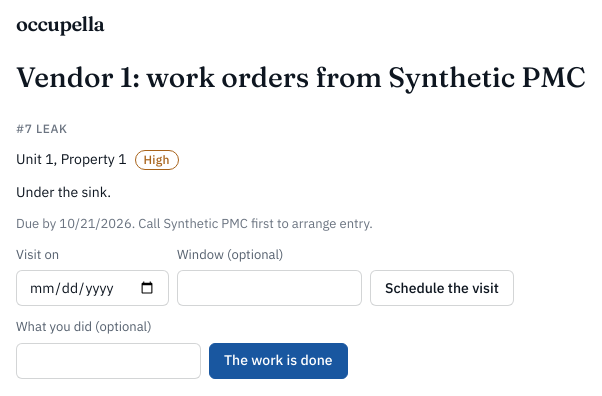
Scenario: VendorLinkPage › says the work is done, and then that nothing waits
Type " New washer " into the field labelled "What you did (optional)".
click(108, 361); type(" New washer ")  # box [16,343,201,379]
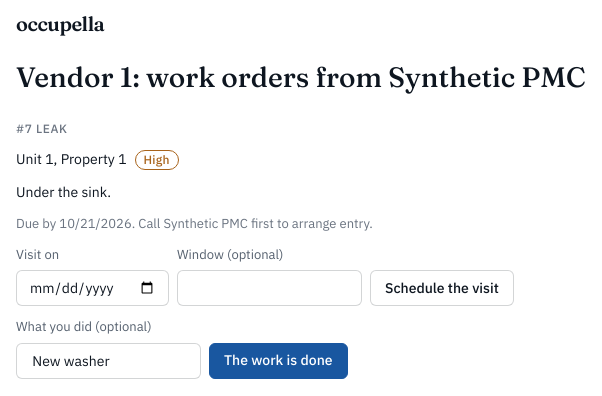
Click the button "The work is done".
click(278, 361)  # box [209,343,348,379]
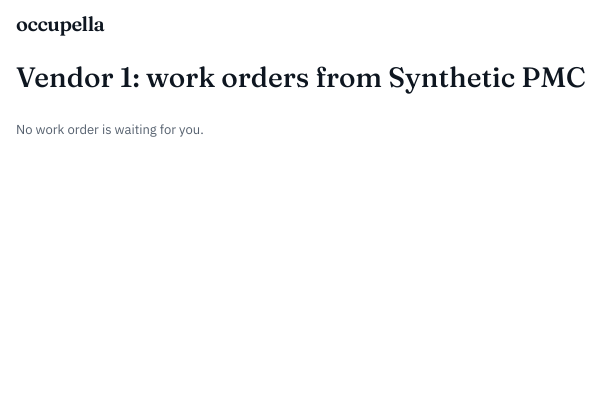
Expected: the text "No work order is waiting for you." is shown, [16,121,204,138]
